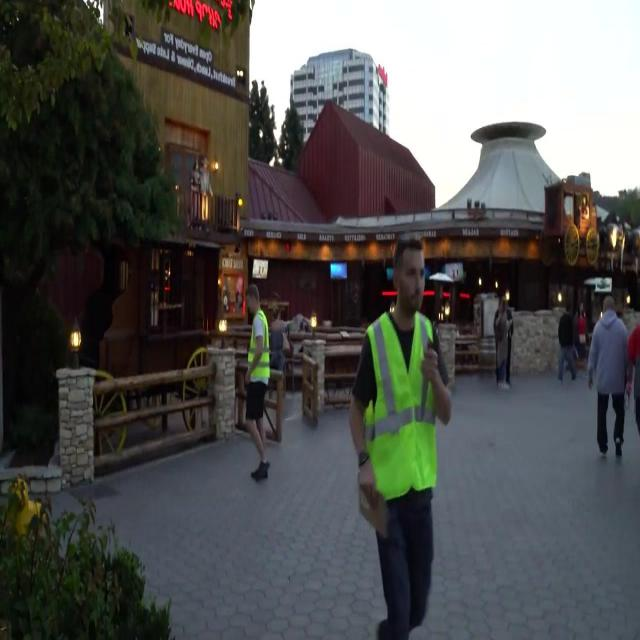Reflective-Jacket: (362, 307, 442, 505), (247, 308, 273, 385)
